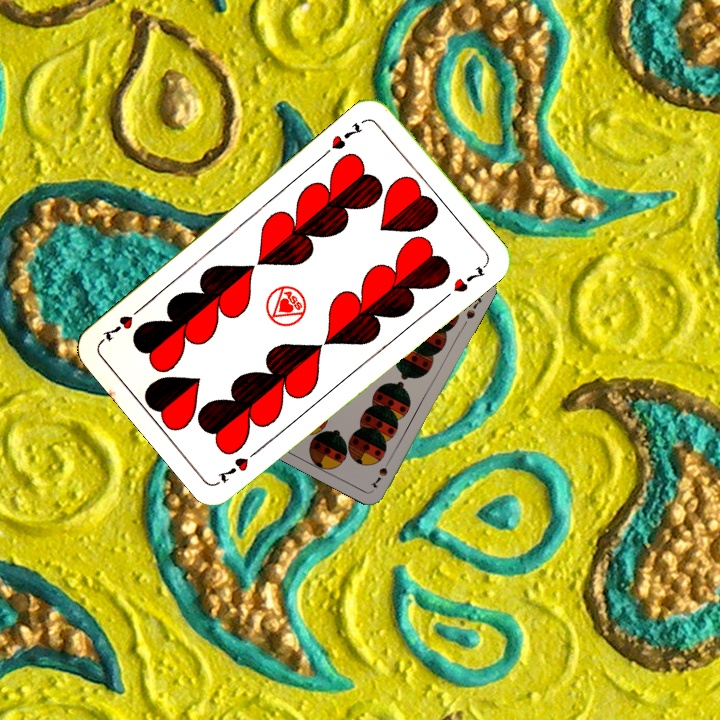H7: (214, 443, 264, 486), (327, 119, 366, 153)
S7: (367, 454, 394, 491)
